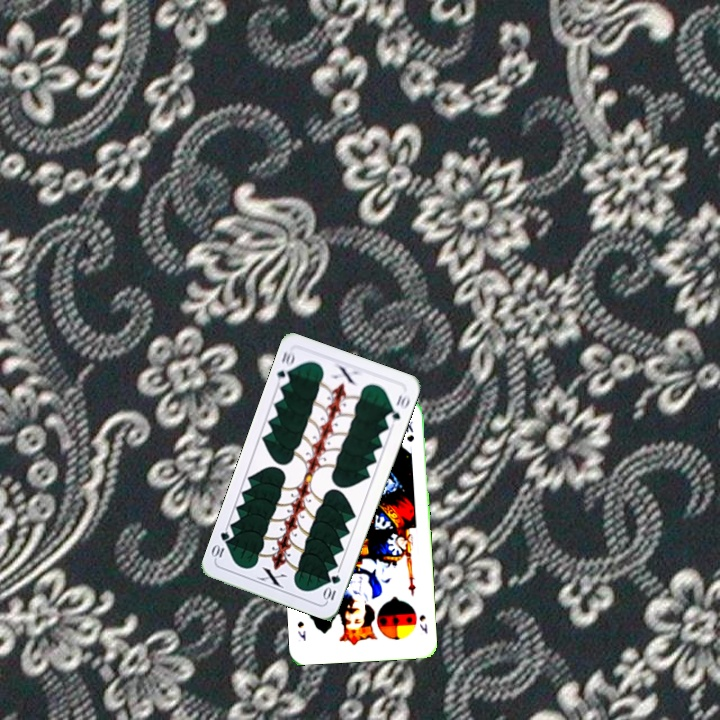G10: (273, 347, 298, 388), (320, 571, 343, 604)
SK: (415, 611, 430, 636)
